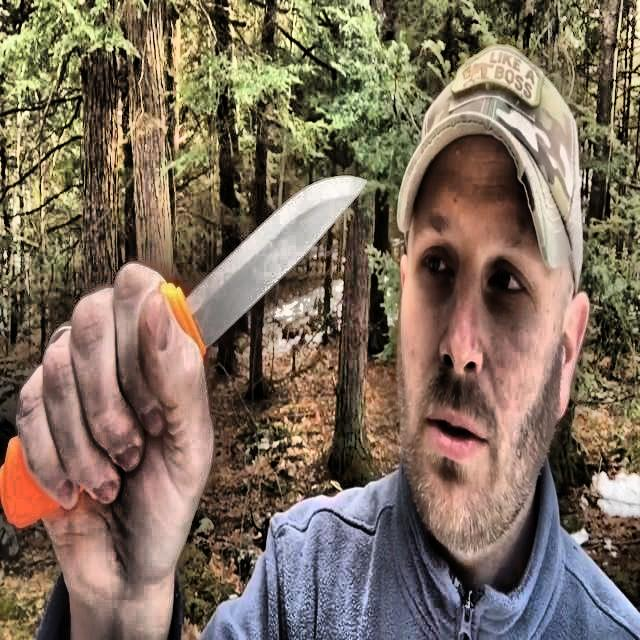knife: (6, 176, 366, 525)
